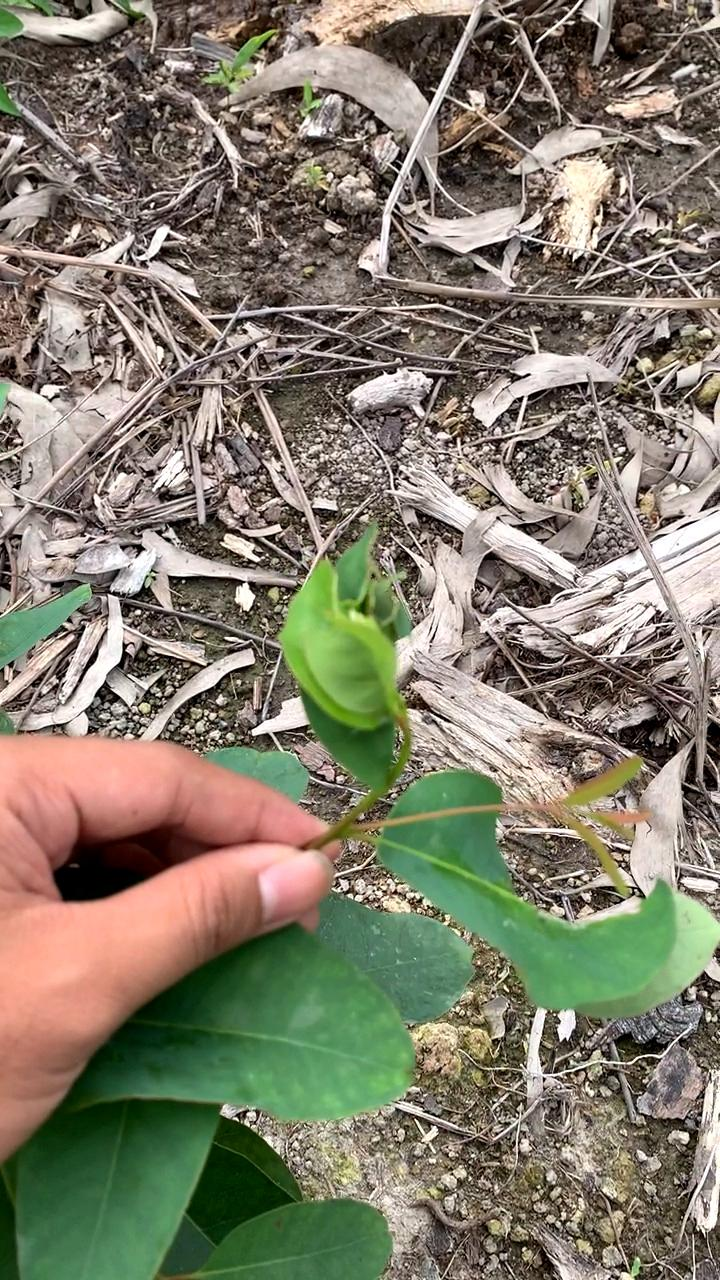Leaf Roller - Leaf: (273, 550, 409, 789)
